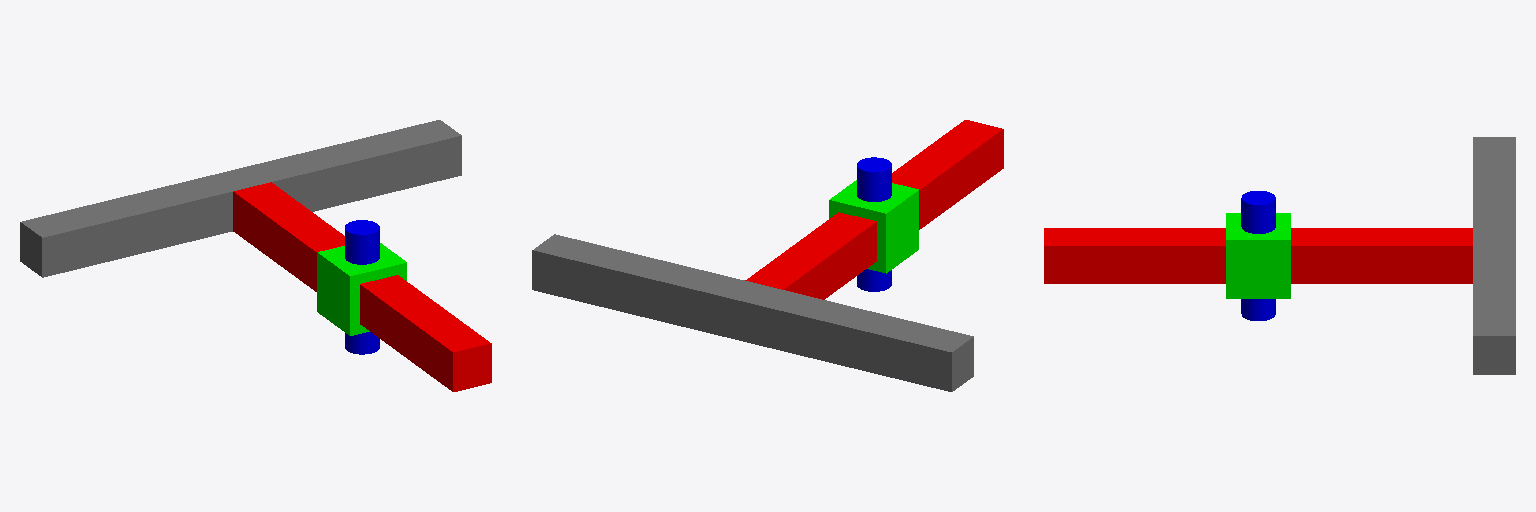
robot.urdf — cartesian_robot_2d:
<?xml version="1.0"?>
<robot name="cartesian_robot_2d">

  <!--
  <link name="frame1">
    <visual>
      <geometry>
        <box size="1.1 0.1 0.1"/>
      </geometry>
      <origin xyz="0 -0.05 0" rpy="0 0 0"/>
      <material name="grey">
        <color rgba="0.5 0.5 0.5 1"/>
      </material>
    </visual>
  </link>
-->
  <link name="frame2">
    <visual>
      <geometry>
        <box size="1.1 0.1 0.1"/>
      </geometry>
      <origin xyz="0 1.05 0" rpy="0 0 0"/>
      <material name="grey">
        <color rgba="0.5 0.5 0.5 1"/>
      </material>
    </visual>
  </link>

  <link name="link_x">
    <visual>
      <geometry>
        <box size="0.1 1.0 0.1"/>
      </geometry>
      <origin xyz="0 0.5 0" rpy="0 0 0"/>
      <material name="red">
        <color rgba="1 0 0 1"/>
      </material>
    </visual>
  </link>

  <link name="link_y">
    <visual>
      <geometry>
        <box size="0.15 0.15 0.15"/>
      </geometry>
      <origin xyz="0.0 0.5 0" rpy="0 0 0"/>
      <material name="green">
        <color rgba="0 1 0 1"/>
      </material>
    </visual>
  </link>

  <link name="link_z">
    <visual>
      <geometry>
        <cylinder radius="0.04" length="0.3"/>
      </geometry>
      <origin xyz="0.0 0.5 0" rpy="0 0 0"/>
      <material name="blue">
        <color rgba="0 0 1 1"/>
      </material>
    </visual>
  </link>

  <joint name="joint_x" type="prismatic">
    <parent link="frame2"/>
    <child link="link_x"/>
    <origin xyz="0 0 0" rpy="0 0 0"/>
    <axis xyz="1 0 0"/>
    <limit lower="-0.5" upper="0.5" effort="100" velocity="10"/>
  </joint>

  <joint name="joint_y" type="prismatic">
    <parent link="link_x"/>
    <child link="link_y"/>
    <origin xyz="0 0 0" rpy="0 0 0"/>
    <axis xyz="0 1 0"/>
    <limit lower="-0.45" upper="0.45" effort="100" velocity="10"/>
  </joint>

  <joint name="joint_z" type="prismatic">
    <parent link="link_y"/>
    <child link="link_z"/>
    <origin xyz="0 0 0" rpy="0 0 0"/>
    <axis xyz="0 0 1"/>
    <limit lower="-0.1" upper="0.0" effort="100" velocity="10"/>
  </joint>

</robot>

--- Facts derived from the render (not from the file) ---
3 views of the same robot in one strip: view 1: azimuth 30°, elevation 25°; view 2: azimuth 150°, elevation 25°; view 3: azimuth 270°, elevation 25° (orthographic).
Robot: cartesian_robot_2d — 4 links, 3 joints (3 prismatic); root link frame2; default pose: all joints at 0.
Visible links, largest first — view 1: frame2, link_x, link_y, link_z; view 2: frame2, link_x, link_y, link_z; view 3: link_x, frame2, link_y, link_z.
Link boxes in pixels (box(x1,y1,x2,y2)): frame2: box(20, 120, 461, 277); link_x: box(233, 182, 491, 391); link_y: box(317, 243, 406, 335); link_z: box(345, 220, 379, 354); frame2: box(532, 234, 973, 391); link_x: box(745, 120, 1003, 299); link_y: box(829, 180, 918, 273); link_z: box(857, 157, 891, 291); link_x: box(1044, 228, 1472, 283); frame2: box(1473, 137, 1515, 374); link_y: box(1226, 213, 1290, 298); link_z: box(1241, 191, 1275, 320).
Size in the robot's own frame: 1.1 by 1.1 by 0.3 metres.
Geometry: primitives only (box / cylinder / sphere), no mesh files.
